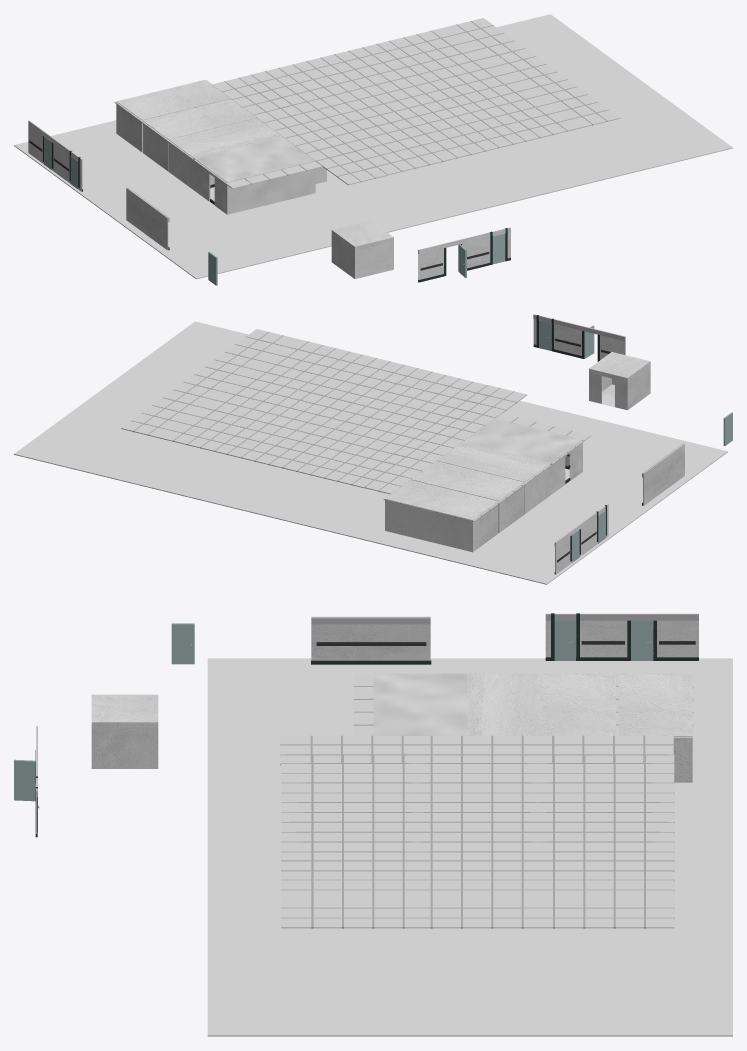
Rendered from Environment Assets 1.fbx.
3 renders of one model, top to bottom at view 1: azimuth 30°, elevation 25°; view 2: azimuth 150°, elevation 25°; view 3: azimuth 270°, elevation 25°, orthographic. The views are drawn at different scales.
Parts seen in each view (by area): view 1: Floor3, Floor2, Room (×4), Floor1, Left_Wall (×2), Room2, pCube78, pCube86, Sealing1, pCube76, pCube67, pCube85 (+23 smaller); view 2: Floor3, Floor2, Room (×4), Floor1, Room2, Left_Wall (×2), Sealing1, pCube78, pCube86, pCube36, pCube70, pCube85 (+24 smaller); view 3: Floor2, Floor3, Room (×4), Floor1, Room2, pCube78, pCube85, pCube42, pCube67, pCube86, pCube70, Sealing1 (+28 smaller).
Boxes of the visible parts, x1,y1,x2,y2 form: Floor3: (14, 120, 358, 279); Floor2: (496, 14, 732, 192); Room (×4): (116, 80, 315, 214); Floor1: (315, 149, 553, 232); Left_Wall (×2): (28, 120, 510, 280); Room2: (331, 220, 393, 278); pCube78: (444, 18, 535, 65); pCube86: (534, 82, 619, 128); Sealing1: (211, 75, 301, 120); pCube76: (379, 34, 463, 81); pCube67: (393, 72, 483, 118); pCube85: (491, 89, 579, 137); Floor3: (368, 408, 727, 584); Floor2: (14, 321, 248, 497); Room (×4): (385, 418, 582, 552); Floor1: (191, 400, 550, 540); Room2: (589, 352, 650, 410); Left_Wall (×2): (533, 314, 625, 574); Sealing1: (353, 447, 442, 494); pCube78: (121, 391, 202, 438); pCube86: (213, 329, 295, 374); pCube36: (437, 385, 527, 432); pCube70: (163, 359, 252, 406); pCube85: (250, 338, 335, 382); Floor2: (207, 909, 732, 1036); Floor3: (207, 658, 732, 783); Room (×4): (373, 673, 692, 782); Floor1: (207, 783, 732, 908); Room2: (91, 694, 158, 768); pCube78: (523, 899, 674, 928); pCube85: (281, 871, 432, 899); pCube42: (311, 616, 430, 660); pCube67: (400, 833, 551, 860); pCube86: (281, 899, 430, 928); pCube70: (400, 899, 551, 928); Sealing1: (523, 735, 673, 763).
Bounding box in the file's own units: 249 × 14.89 × 201.
Materials: 15 (1 with a texture image).
